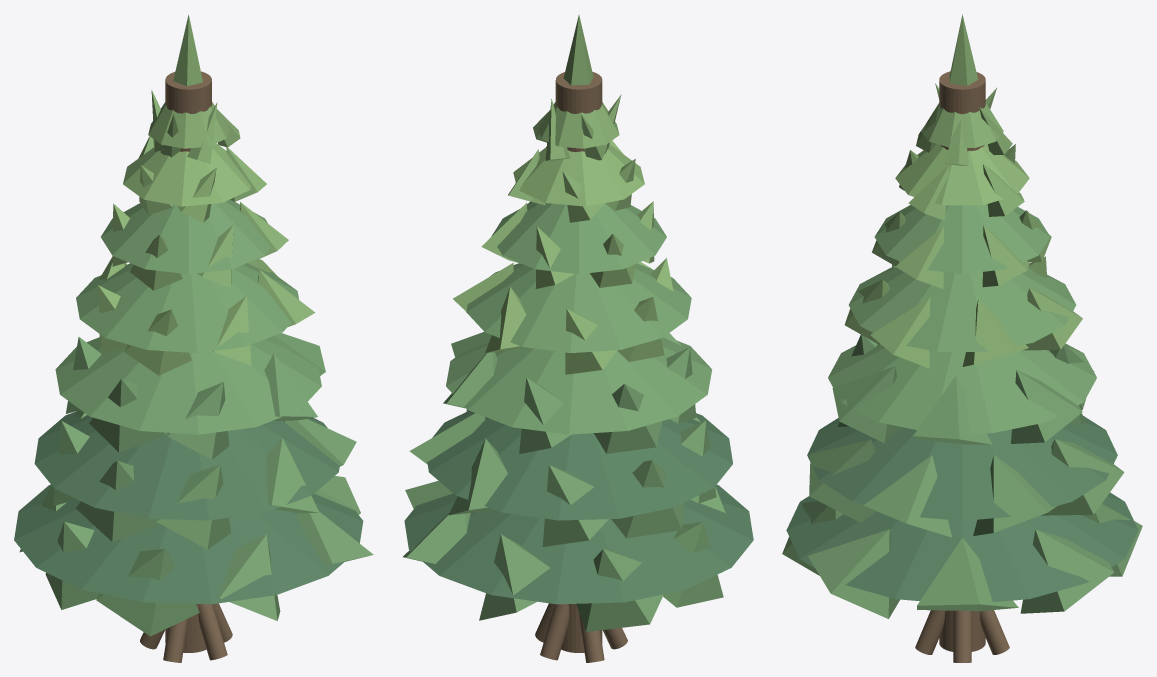
File: aoe_pine_tall_01.glb
3 renders of one model, left to right at view 1: azimuth 30°, elevation 25°; view 2: azimuth 150°, elevation 25°; view 3: azimuth 270°, elevation 25°, orthographic.
Visible parts, largest first — view 1: Cone, Cone.009, Cone.018, Cone.026, Cone.034, Cone.041, Cone.006, Cone.007, Cone.015, Cone.047, Cylinder, Cone.014 (+25 smaller); view 2: Cone, Cone.009, Cone.018, Cone.026, Cone.034, Cone.041, Cone.004, Cone.003, Cone.012, Cylinder, Cone.047, Cone.013 (+23 smaller); view 3: Cone, Cone.009, Cone.018, Cone.026, Cone.034, Cone.041, Cone.008, Cone.001, Cone.002, Cone.017, Cone.010, Cone.016 (+22 smaller).
Boxes of the visible parts, left/top/right/bottom form: Cone: left=14, top=484, right=363, bottom=604; Cone.009: left=34, top=411, right=339, bottom=520; Cone.018: left=55, top=337, right=321, bottom=434; Cone.026: left=76, top=263, right=298, bottom=352; Cone.034: left=101, top=199, right=270, bottom=274; Cone.041: left=123, top=143, right=250, bottom=206; Cone.006: left=96, top=549, right=199, bottom=636; Cone.007: left=218, top=534, right=280, bottom=620; Cone.015: left=156, top=464, right=230, bottom=549; Cone.047: left=148, top=102, right=228, bottom=148; Cylinder: left=165, top=71, right=211, bottom=652; Cone.014: left=76, top=461, right=159, bottom=541; Cone: left=404, top=484, right=753, bottom=604; Cone.009: left=427, top=410, right=732, bottom=520; Cone.018: left=446, top=337, right=712, bottom=434; Cone.026: left=466, top=263, right=691, bottom=353; Cone.034: left=491, top=202, right=666, bottom=274; Cone.041: left=513, top=144, right=644, bottom=206; Cone.004: left=576, top=549, right=663, bottom=631; Cone.003: left=479, top=534, right=549, bottom=620; Cone.012: left=542, top=465, right=608, bottom=546; Cylinder: left=555, top=72, right=602, bottom=652; Cone.047: left=538, top=102, right=619, bottom=148; Cone.013: left=611, top=460, right=683, bottom=538; Cone: left=786, top=492, right=1138, bottom=602; Cone.009: left=807, top=416, right=1117, bottom=520; Cone.018: left=828, top=343, right=1096, bottom=433; Cone.026: left=848, top=267, right=1076, bottom=351; Cone.034: left=874, top=204, right=1050, bottom=273; Cone.041: left=895, top=144, right=1029, bottom=205; Cone.008: left=808, top=529, right=899, bottom=618; Cone.001: left=917, top=538, right=1018, bottom=611; Cone.002: left=1020, top=529, right=1114, bottom=613; Cone.017: left=863, top=455, right=951, bottom=537; Cone.010: left=973, top=455, right=1056, bottom=535; Cone.016: left=809, top=439, right=876, bottom=522.
Bounding box in the file's own units: 7.08 × 13.52 × 6.97.
